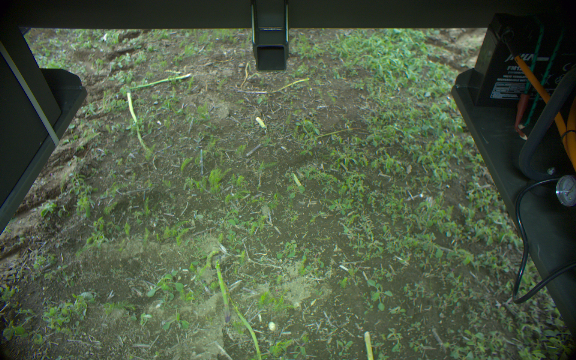aspa: (231, 297, 261, 360), (125, 84, 149, 155), (129, 70, 194, 92), (211, 263, 233, 322), (360, 330, 375, 360)
